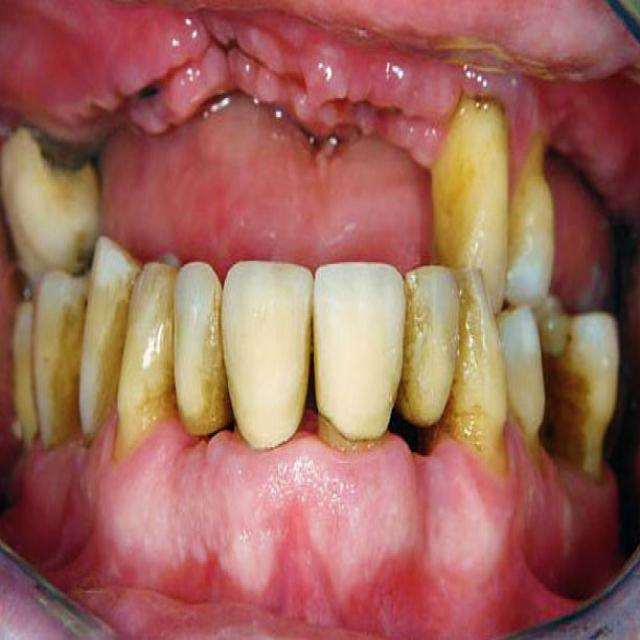caries: (22, 120, 94, 198)
